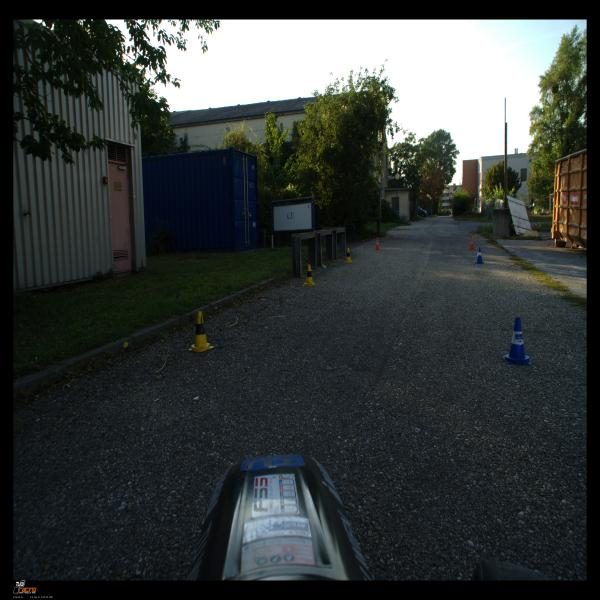blue_cone: (503, 317, 531, 365), (475, 247, 484, 264)
orange_cone: (468, 236, 475, 250), (373, 238, 380, 250)
yellow_cone: (188, 311, 214, 352), (303, 265, 316, 286), (344, 248, 353, 263)
